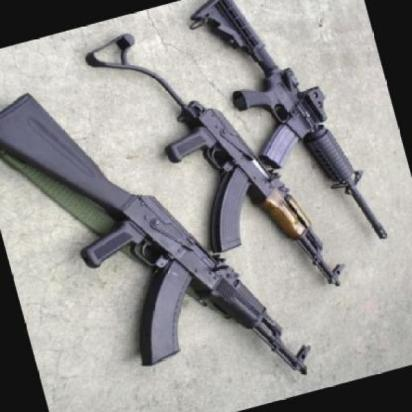Gun: (0, 33, 315, 412), (176, 0, 410, 274), (135, 69, 352, 317)
